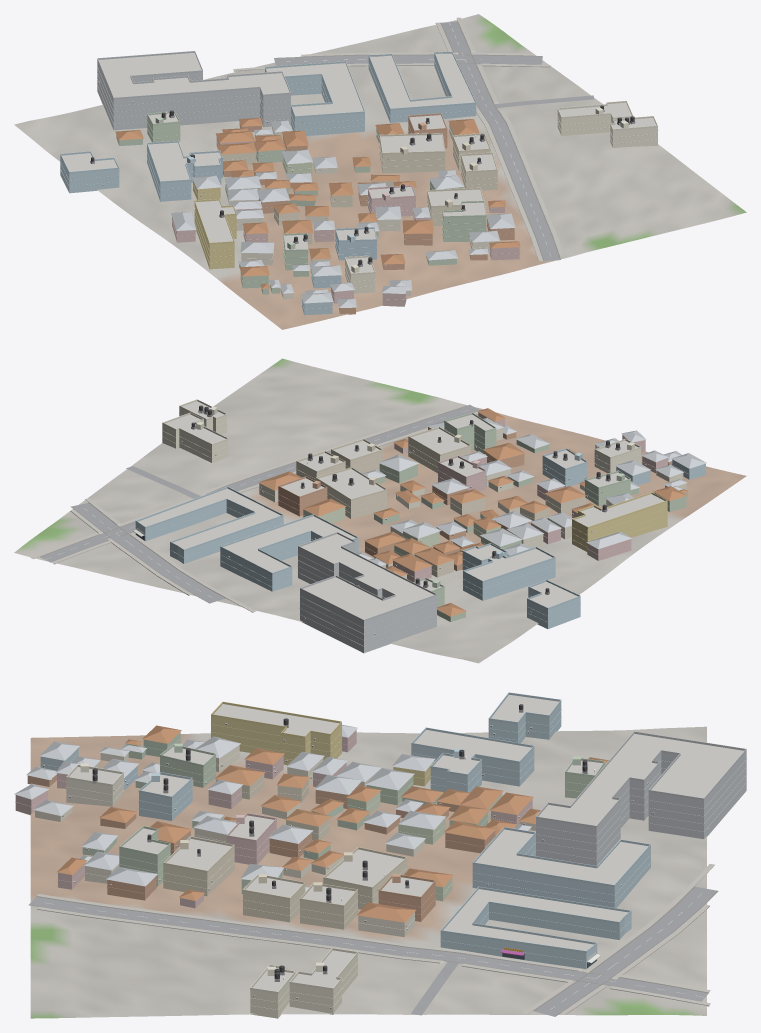
3 renders of one model, top to bottom at view 1: azimuth 30°, elevation 25°; view 2: azimuth 150°, elevation 25°; view 3: azimuth 270°, elevation 25°, orthographic. The views are drawn at different scales.
Parts seen in each view (by area): view 1: Buildings-col, Terrain-col, Details, Roads-col, Sidewalks-col; view 2: Buildings-col, Terrain-col, Details, Roads-col, Sidewalks-col; view 3: Buildings-col, Terrain-col, Details, Roads-col, Sidewalks-col.
Boxes of the visible parts, <box> form: Buildings-col: <box>60,52,657,315</box>; Terrain-col: <box>14,14,746,329</box>; Details: <box>60,51,658,309</box>; Roads-col: <box>274,21,594,260</box>; Sidewalks-col: <box>233,17,563,260</box>; Buildings-col: <box>135,401,706,653</box>; Terrain-col: <box>14,358,746,663</box>; Details: <box>133,399,705,646</box>; Roads-col: <box>40,405,480,603</box>; Sidewalks-col: <box>30,405,478,612</box>; Buildings-col: <box>14,694,746,1018</box>; Terrain-col: <box>30,726,706,1018</box>; Details: <box>15,692,746,1010</box>; Roads-col: <box>29,886,718,1016</box>; Sidewalks-col: <box>37,864,714,1014</box>.
Size of the model in its own units: 272 by 21.48 by 277.
